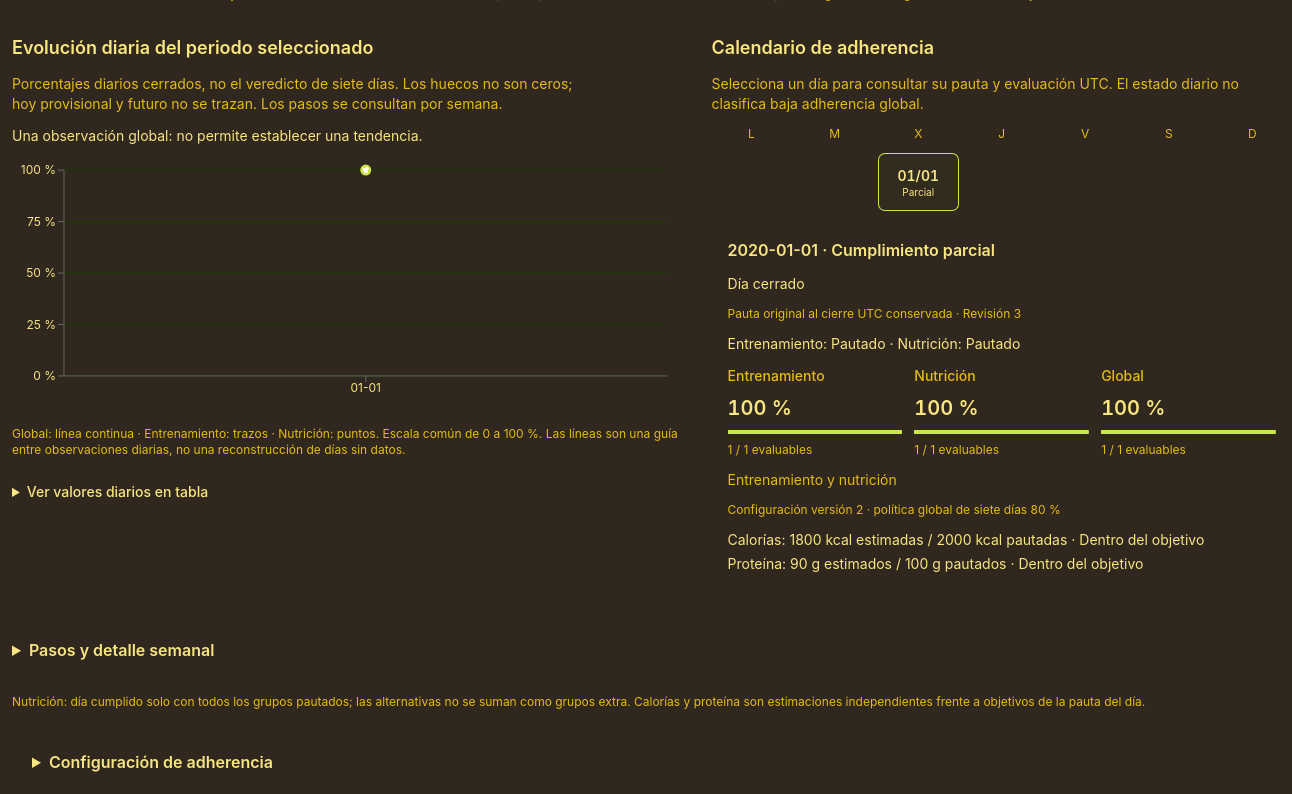
Test: Adherencia canónica en el detalle › consulta cliente/rango y consume ratios cerrados sin promediar días; pasos una vez con siete objetivos
This screenshot has width=1292, height=794.
(page scrolled)
Click the heading "Pasos y detalle semanal": (122, 650) [29, 640, 214, 660]
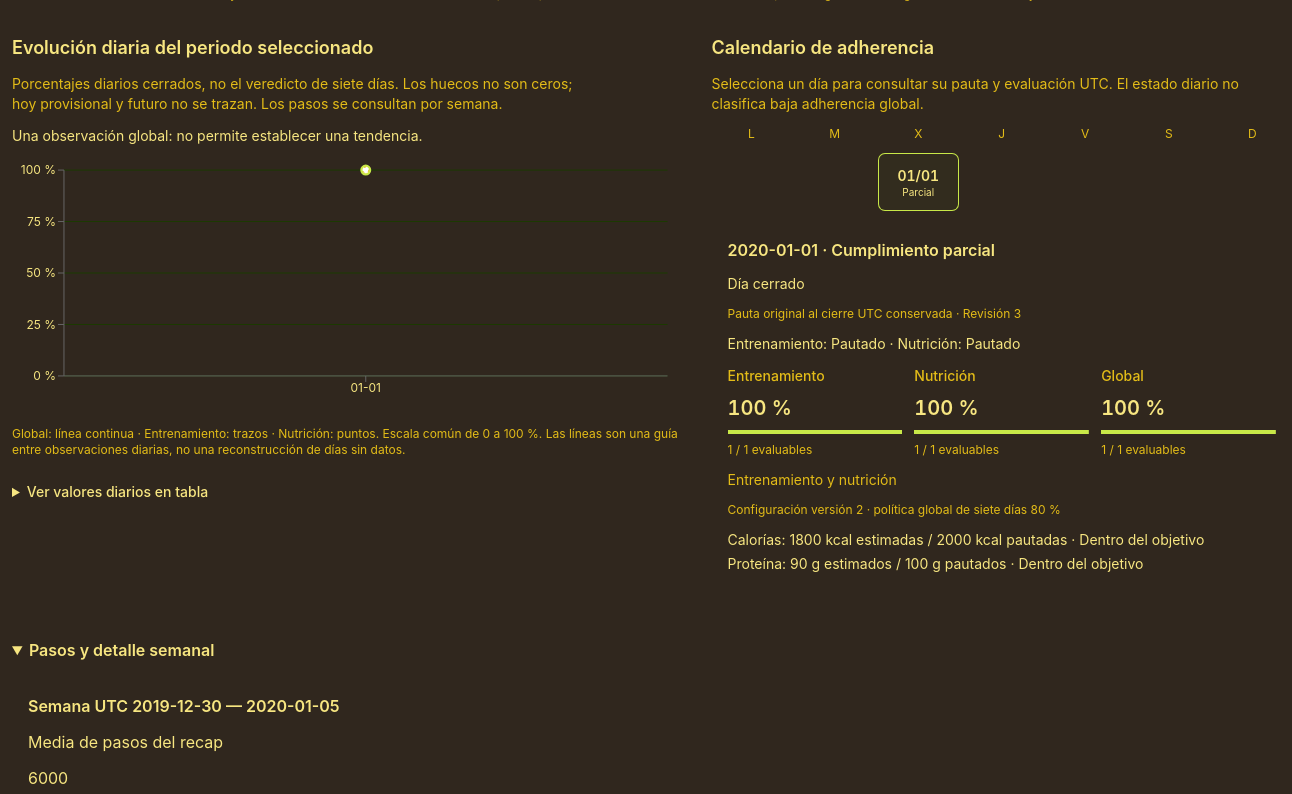
Expected: the text "Pauta original al cierre UTC conservada · Revisión 3" is shown, [728, 306, 1021, 321]
Now the text "6000" is shown, box [28, 768, 68, 788]
Now the text "Media de pasos del recap" is shown once, box [28, 732, 223, 752]
